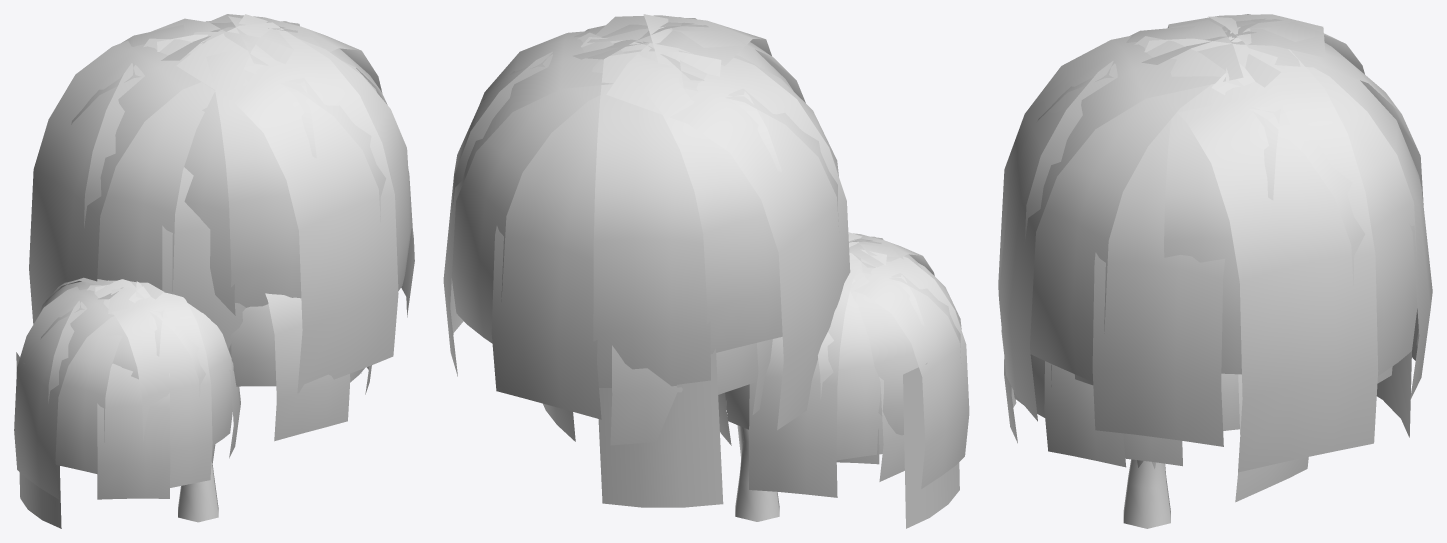
The model's file is STWillow1.glb.
3 renders of one model, left to right at view 1: azimuth 30°, elevation 25°; view 2: azimuth 150°, elevation 25°; view 3: azimuth 270°, elevation 25°, orthographic. The views are drawn at different scales.
Parts seen in each view (by area): view 1: WillowTree1; view 2: WillowTree1; view 3: WillowTree1.
Part boxes in pixels (<box>): WillowTree1: <box>14,14,414,528</box>; WillowTree1: <box>443,14,969,528</box>; WillowTree1: <box>998,14,1432,528</box>.
Bounding box in the file's own units: 13.7 × 14.19 × 10.82.
2 materials, 1 textured.
